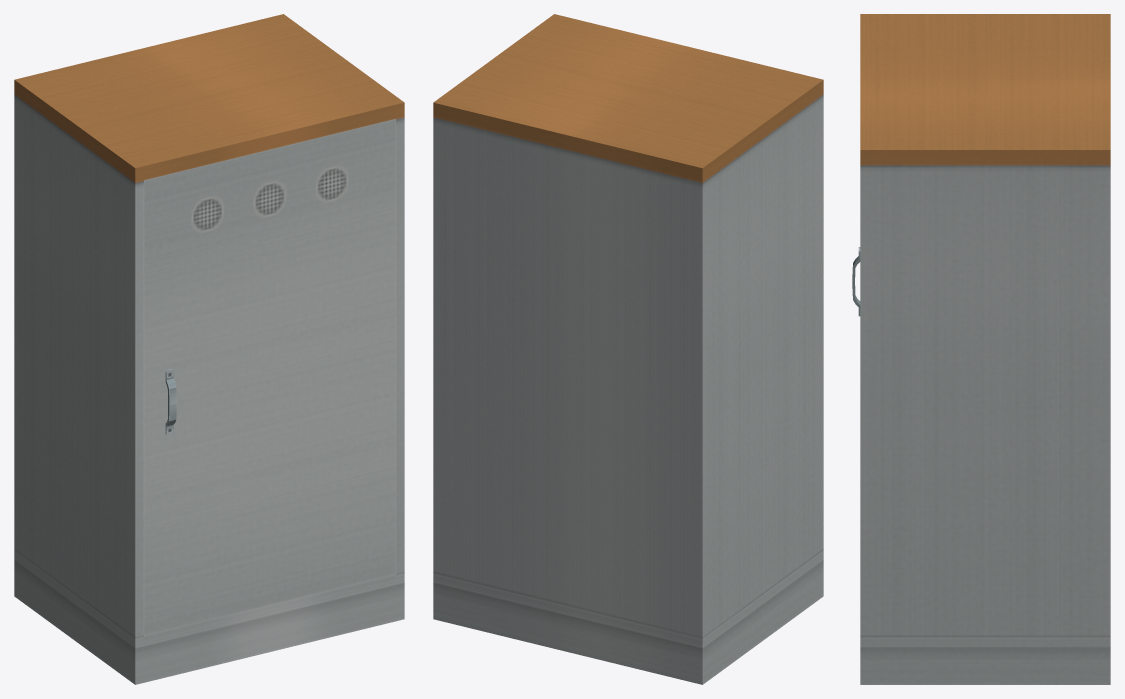
The model's file is Rack_03_02.fbx.
3 renders of one model, left to right at view 1: azimuth 30°, elevation 25°; view 2: azimuth 150°, elevation 25°; view 3: azimuth 270°, elevation 25°, orthographic. The views are drawn at different scales.
Parts seen in each view (by area): view 1: rack03_ver02_01, door; view 2: rack03_ver02_01; view 3: rack03_ver02_01.
Part boxes in pixels (x1,y1,x2,y2): rack03_ver02_01: (14,14,404,684); door: (144,119,395,635); rack03_ver02_01: (433,14,823,684); rack03_ver02_01: (860,14,1110,684).
Size of the model in its own units: 60 by 110 by 48.18.
